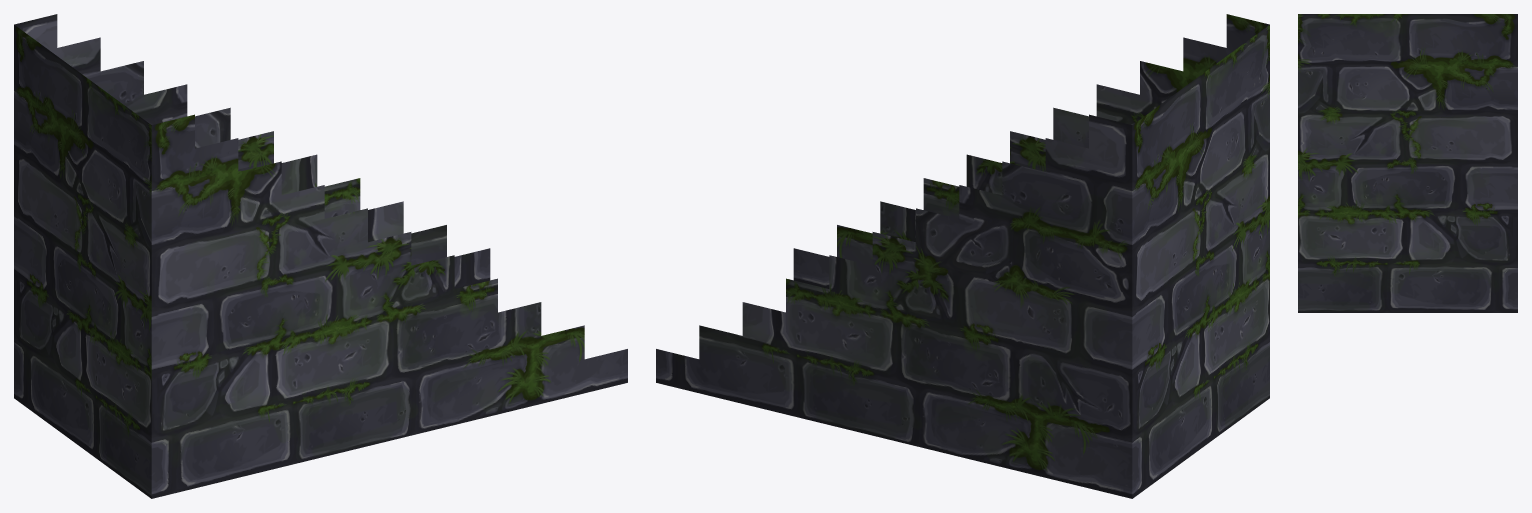
File: MOD_Stairs_01_WallCover_2_half.fbx
3 views of the same model, side by side, from view 1: azimuth 30°, elevation 25°; view 2: azimuth 150°, elevation 25°; view 3: azimuth 270°, elevation 25° (orthographic). The views are drawn at different scales.
Parts seen in each view (by area): view 1: MOD_Stairs_01_WallCover_2_half; view 2: MOD_Stairs_01_WallCover_2_half; view 3: MOD_Stairs_01_WallCover_2_half.
Part boxes in pixels (left/top/right/bottom): MOD_Stairs_01_WallCover_2_half: left=14, top=14, right=627, bottom=498; MOD_Stairs_01_WallCover_2_half: left=656, top=14, right=1269, bottom=498; MOD_Stairs_01_WallCover_2_half: left=1298, top=14, right=1517, bottom=312.
Size of what is drawn, in the model's own units: 400 by 300 by 200.
